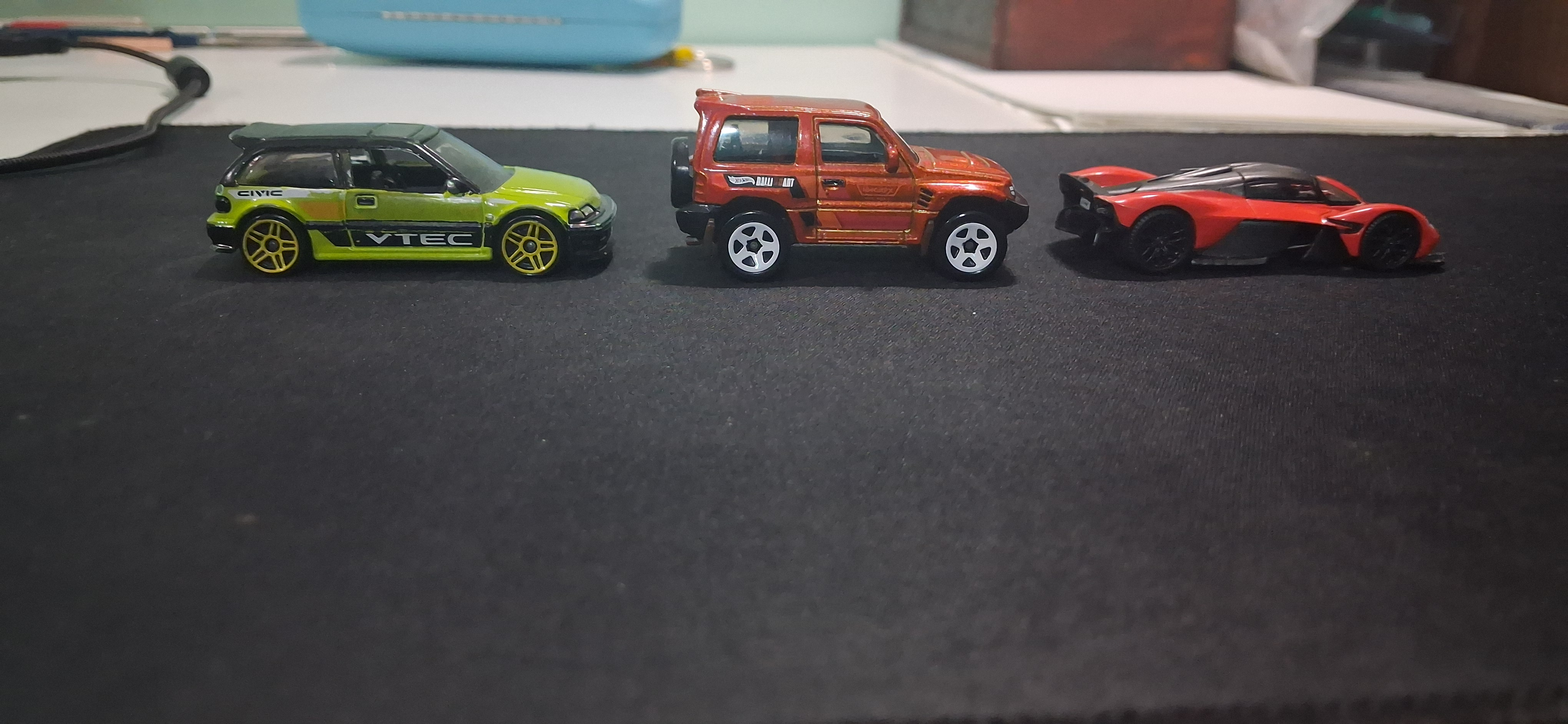Aston_Martin_Valkyrie: (1051, 102, 1483, 336)
Honda_Civic: (184, 90, 624, 319)
Mitsubishi_Pajero_Evolution: (650, 57, 1044, 337)
